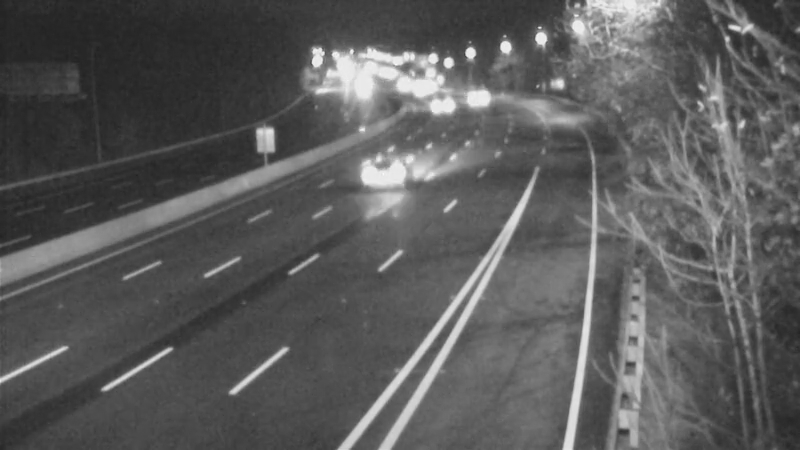vehicle: (346, 132, 426, 212), (448, 70, 498, 120), (415, 78, 465, 128), (339, 60, 389, 110)
